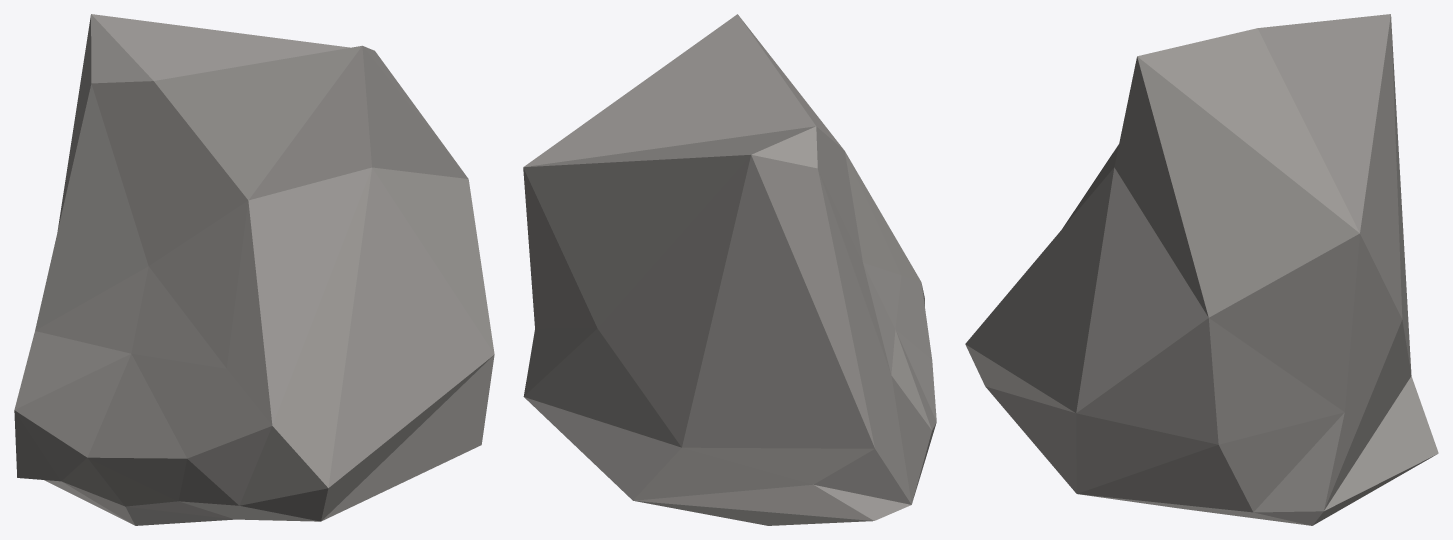
Rendered from Rock1.fbx.
The picture shows the model from 3 angles, left to right: view 1: azimuth 30°, elevation 25°; view 2: azimuth 150°, elevation 25°; view 3: azimuth 270°, elevation 25°; orthographic projection. The views are drawn at different scales.
Visible parts, largest first — view 1: Rock008; view 2: Rock008; view 3: Rock008.
Boxes of the visible parts, x1=… form: Rock008: x1=14, y1=14, x2=494, y2=525; Rock008: x1=523, y1=14, x2=936, y2=525; Rock008: x1=965, y1=14, x2=1438, y2=525.
Size of the model in its own units: 135 by 138 by 132.
